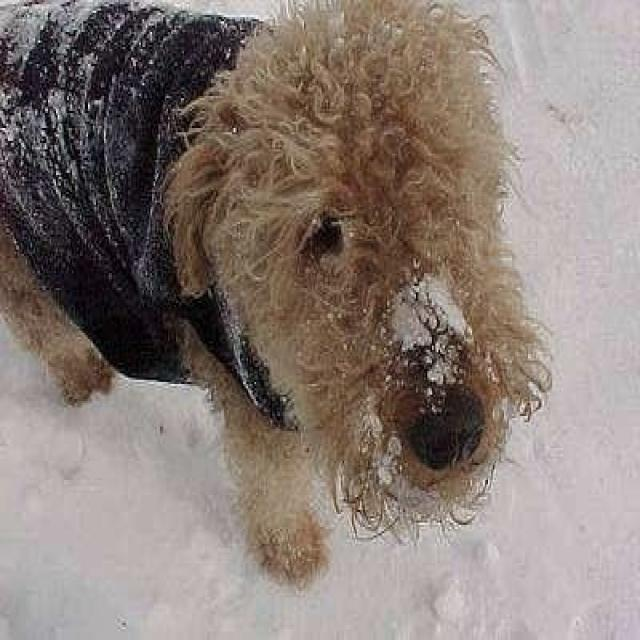airedale: (3, 0, 557, 591)
